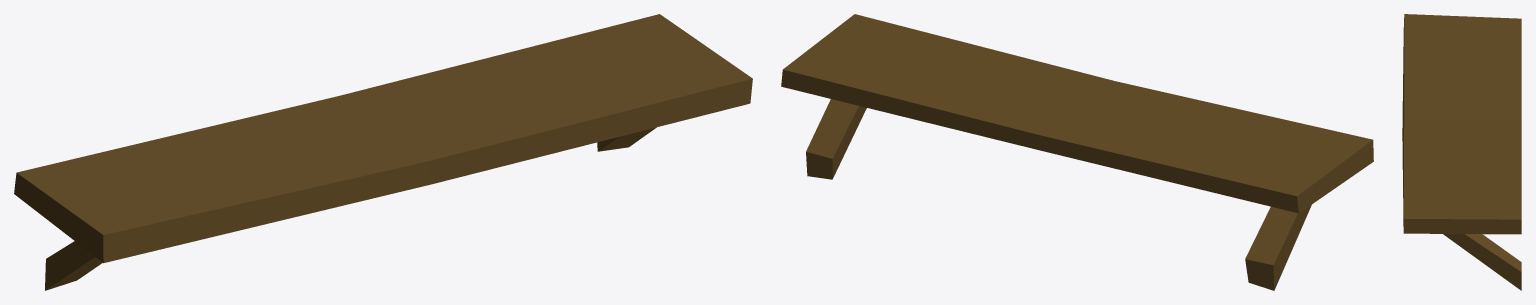
File: enchantedforest_shelf.fbx
3 views of the same model, side by side, from view 1: azimuth 30°, elevation 25°; view 2: azimuth 150°, elevation 25°; view 3: azimuth 270°, elevation 25° (orthographic). The views are drawn at different scales.
Parts seen in each view (by area): view 1: Cube.034; view 2: Cube.034; view 3: Cube.034.
Boxes of the visible parts, x1,y1,x2,y2 form: Cube.034: [14, 14, 752, 290]; Cube.034: [781, 14, 1373, 290]; Cube.034: [1402, 14, 1521, 290].
Bounding box in the file's own units: 2.01 × 0.3849 × 0.4948.
